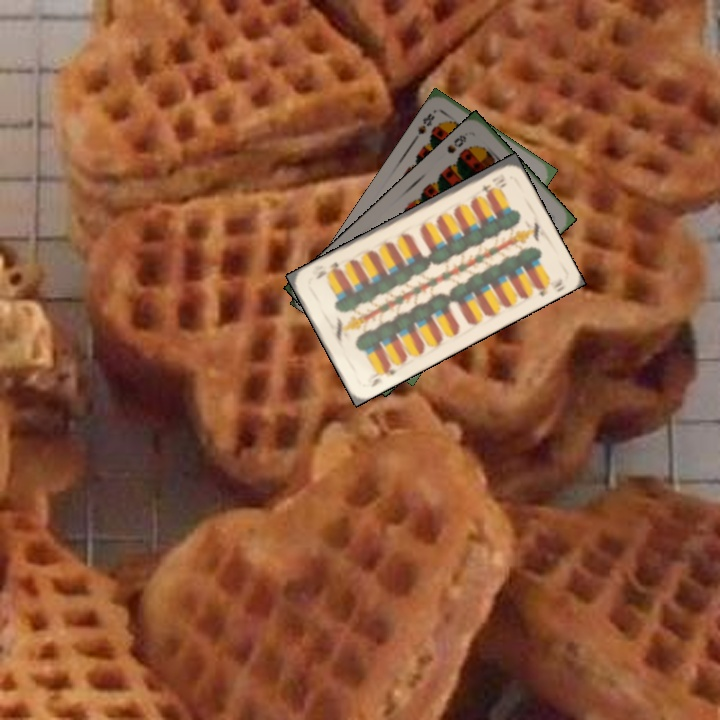E10: (366, 361, 399, 390), (477, 170, 508, 194)
S8: (411, 109, 437, 142), (443, 131, 469, 156)
